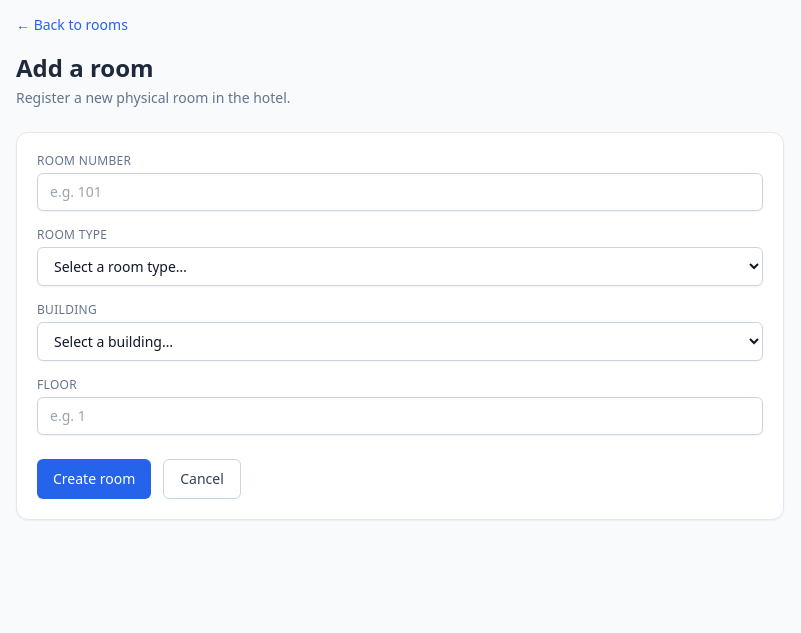
Test: Staff room form page › shows inline validation errors for an incomplete form
Click the button "Create room" at (94, 479), box [37,459,151,499]
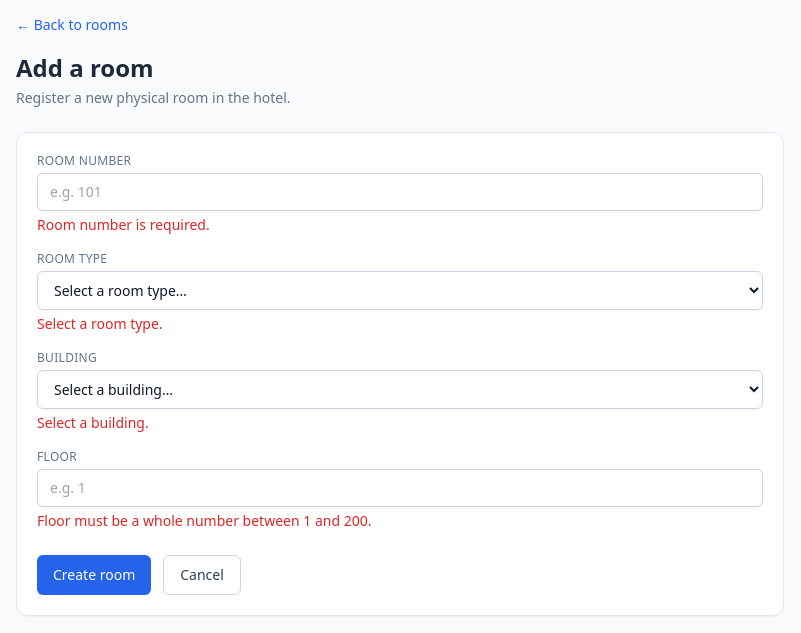
Expected: the text "Room number is required." is shown, [37,215,210,234]
Expected: the text "Select a room type." is shown, [37,314,163,333]
Expected: the text "Floor must be a whole number between 1 and 200." is shown, [37,511,372,530]
